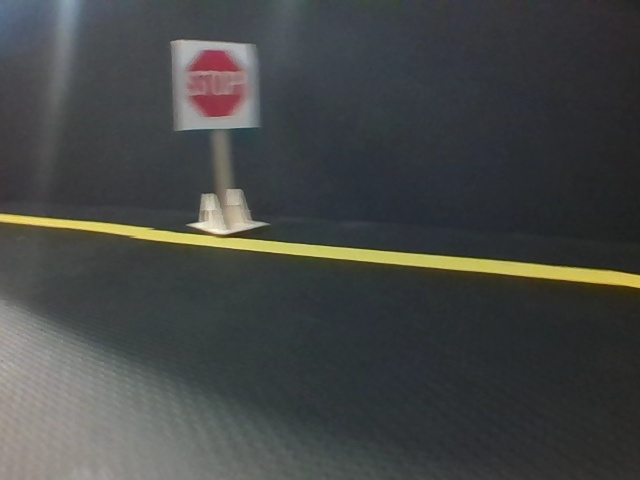stop: (177, 42, 256, 131)
